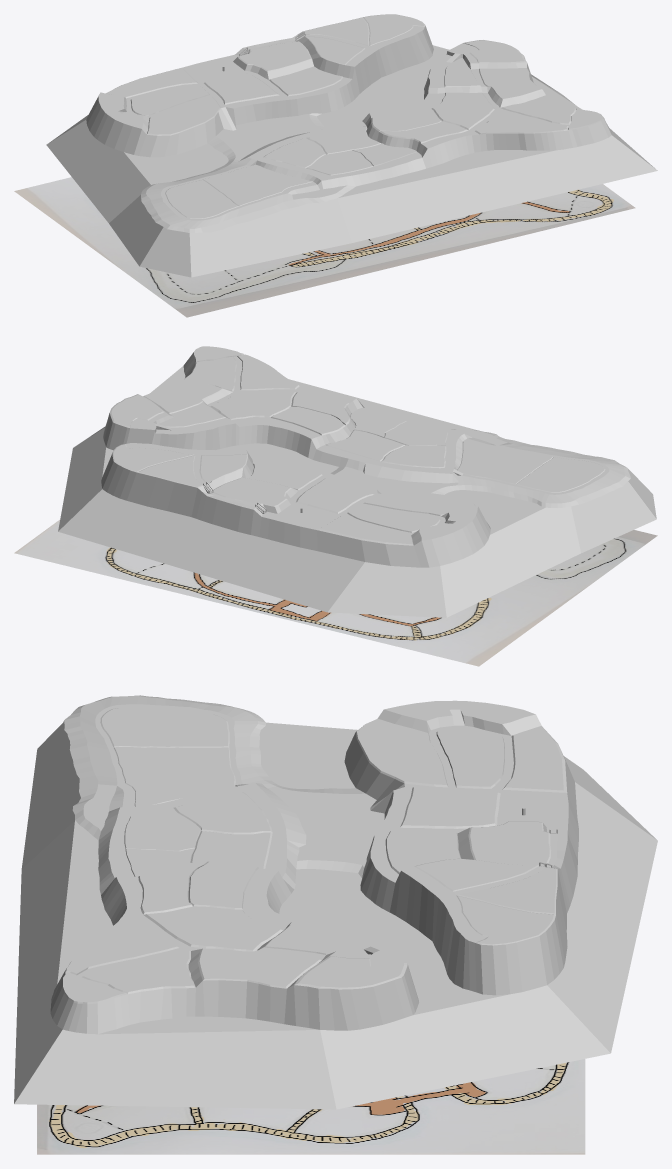
File: ExportedBlenderFBXFile.fbx
3 views of the same model, one above another, from view 1: azimuth 30°, elevation 25°; view 2: azimuth 150°, elevation 25°; view 3: azimuth 270°, elevation 25° (orthographic). The views are drawn at different scales.
Parts seen in each view (by area): view 1: Landscape, Blueprint; view 2: Landscape, Blueprint; view 3: Landscape, Blueprint.
Boxes of the visible parts, x1,y1,x2,y2 form: Landscape: (46,14,657,277); Blueprint: (14,177,635,317); Landscape: (58,346,656,617); Blueprint: (14,519,657,666); Landscape: (14,695,657,1109); Blueprint: (37,1059,585,1154).
Size of the model in its own units: 247 by 47.95 by 176.
